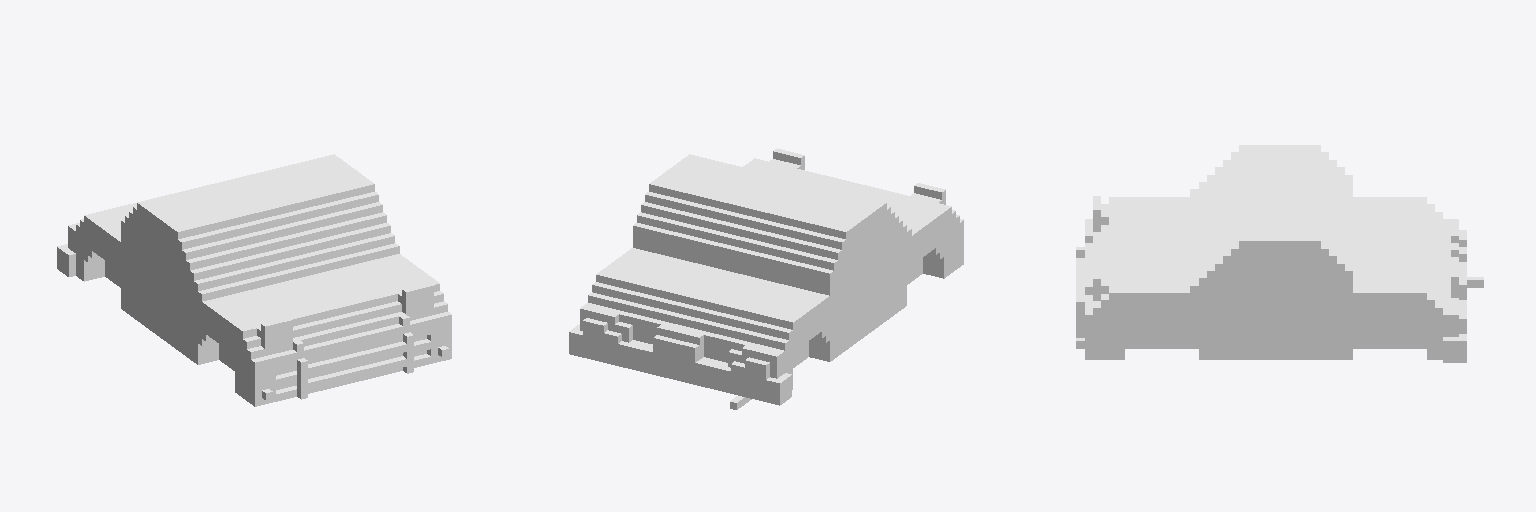
Rendered from FirstCar.obj.
3 views of the same model, side by side, from view 1: azimuth 30°, elevation 25°; view 2: azimuth 150°, elevation 25°; view 3: azimuth 270°, elevation 25° (orthographic).
Parts seen in each view (by area): view 1: FirstCar; view 2: FirstCar; view 3: FirstCar.
Part boxes in pixels (left/top/right/bottom): FirstCar: left=57, top=154, right=451, bottom=406; FirstCar: left=569, top=148, right=963, bottom=409; FirstCar: left=1076, top=145, right=1483, bottom=362.
Size of the model in its own units: 3 by 1.7 by 5.